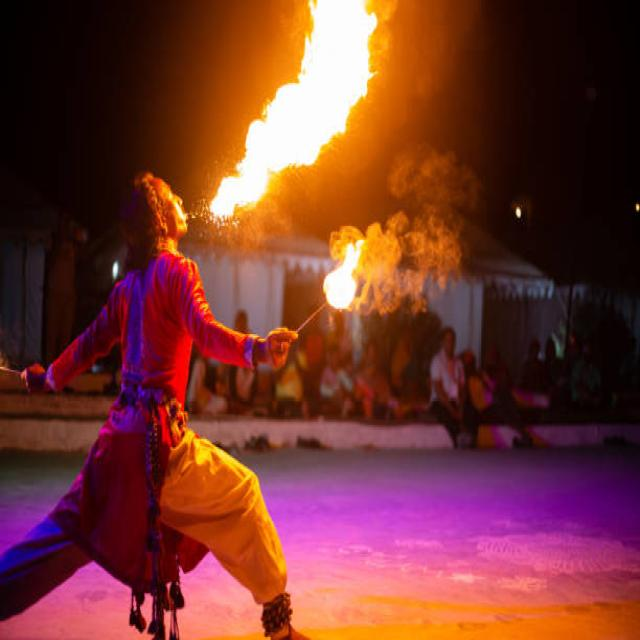fire: (209, 0, 377, 226), (323, 244, 361, 309)
